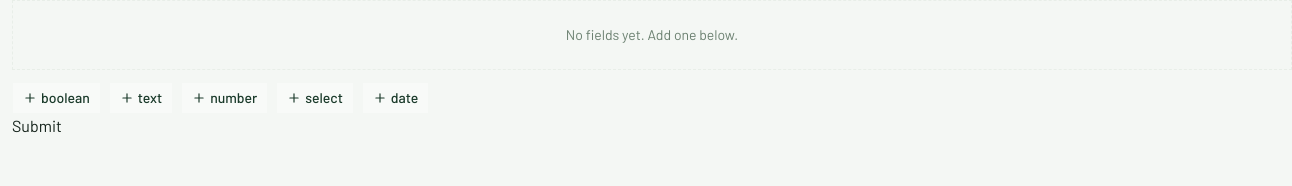
FieldBuilder › adds a field row when a type button is clicked
Click the button "boolean": (56, 98) [12,82,101,114]
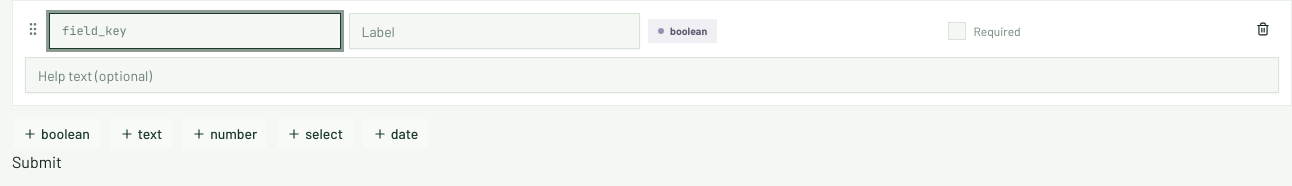
Expected: the text "No fields yet" is gone
Expected: the field with placeholder "field_key" is shown, [49,13,340,49]
